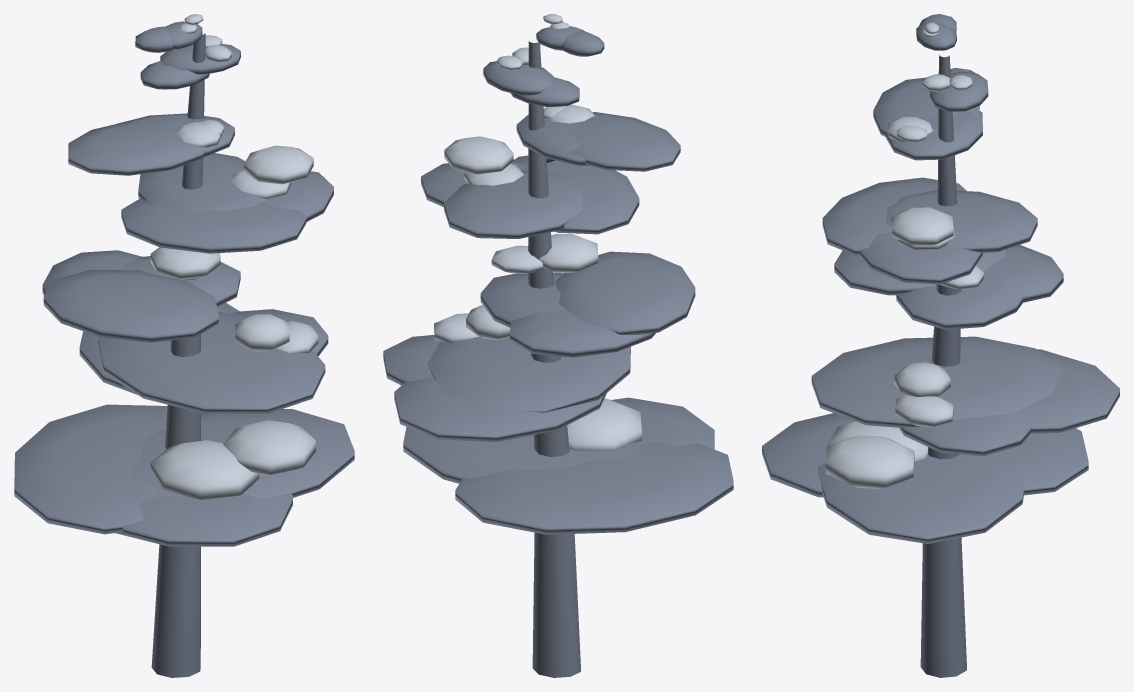
File: 景观松树-lite.glb
3 views of the same model, side by side, from view 1: azimuth 30°, elevation 25°; view 2: azimuth 150°, elevation 25°; view 3: azimuth 270°, elevation 25° (orthographic).
Visible parts, largest first — view 1: garden-conifer-leaf, garden-conifer-light, garden-conifer-trunk; view 2: garden-conifer-leaf, garden-conifer-light, garden-conifer-trunk; view 3: garden-conifer-leaf, garden-conifer-light, garden-conifer-trunk.
Boxes of the visible parts, <box> form: garden-conifer-leaf: <box>14,21,354,546</box>; garden-conifer-light: <box>150,14,318,499</box>; garden-conifer-trunk: <box>151,33,205,677</box>; garden-conifer-leaf: <box>383,26,733,534</box>; garden-conifer-light: <box>434,14,641,450</box>; garden-conifer-trunk: <box>528,41,580,677</box>; garden-conifer-leaf: <box>762,14,1119,543</box>; garden-conifer-light: <box>825,22,983,488</box>; garden-conifer-trunk: <box>920,55,966,677</box>.
Bounding box in the file's own units: 1.5 × 3 × 1.5.
